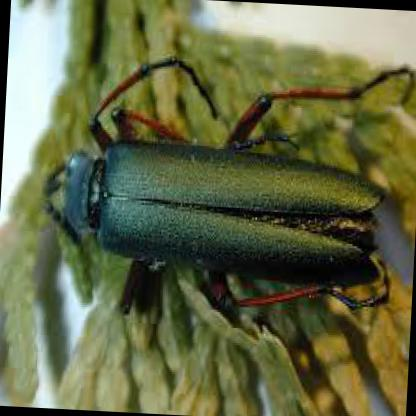blister beetle: (39, 56, 412, 319)
